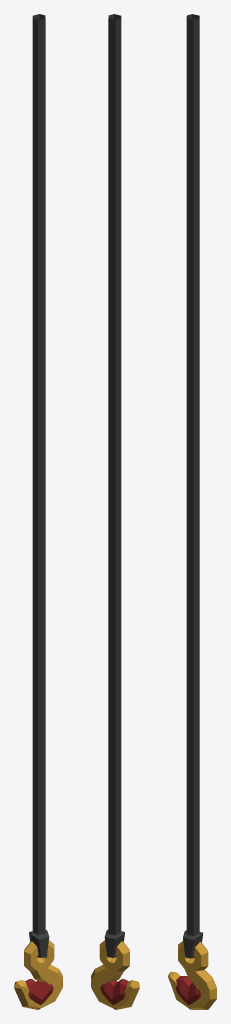
The model's file is cuore 1.fbx.
The picture shows the model from 3 angles, left to right: view 1: azimuth 30°, elevation 25°; view 2: azimuth 150°, elevation 25°; view 3: azimuth 330°, elevation 25°; orthographic projection.
Visible parts, largest first — view 1: gancio, gancio_terra, cuore; view 2: gancio, gancio_terra, cuore; view 3: gancio, gancio_terra, cuore.
Part boxes in pixels (<box>): gancio: <box>14,14,62,1009</box>; gancio_terra: <box>14,924,62,1007</box>; cuore: <box>25,979,53,1009</box>; gancio: <box>91,14,139,1009</box>; gancio_terra: <box>91,924,138,1007</box>; cuore: <box>100,979,128,1009</box>; gancio: <box>168,14,216,1009</box>; gancio_terra: <box>169,925,210,1007</box>; cuore: <box>175,976,200,1009</box>.
Size of the model in its own units: 0.7886 by 15.31 by 0.2838.
